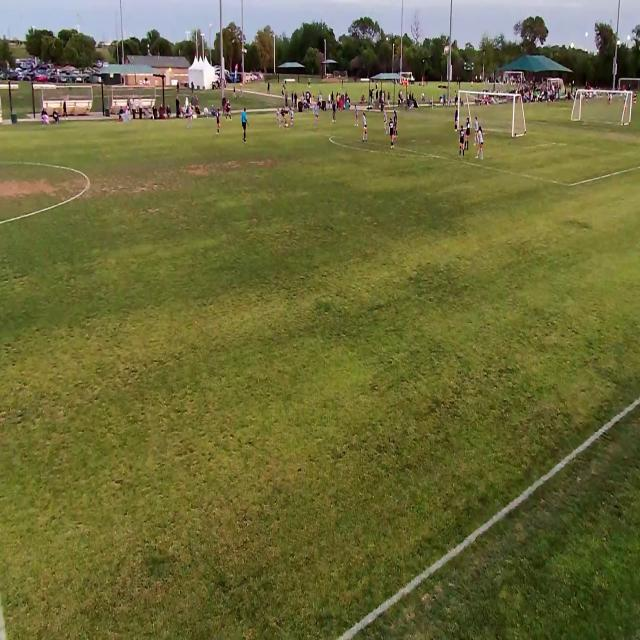ball: (286, 124, 288, 128)
team1: (458, 122, 466, 159), (215, 106, 222, 138), (389, 115, 395, 151), (465, 117, 470, 151), (393, 110, 399, 137), (281, 105, 288, 128), (225, 99, 232, 120), (332, 100, 337, 124)
team2: (476, 122, 486, 163), (363, 110, 370, 143), (186, 104, 193, 129), (313, 104, 319, 130), (383, 108, 388, 136), (354, 104, 360, 127), (289, 107, 295, 129), (474, 116, 478, 148), (276, 108, 282, 128)
